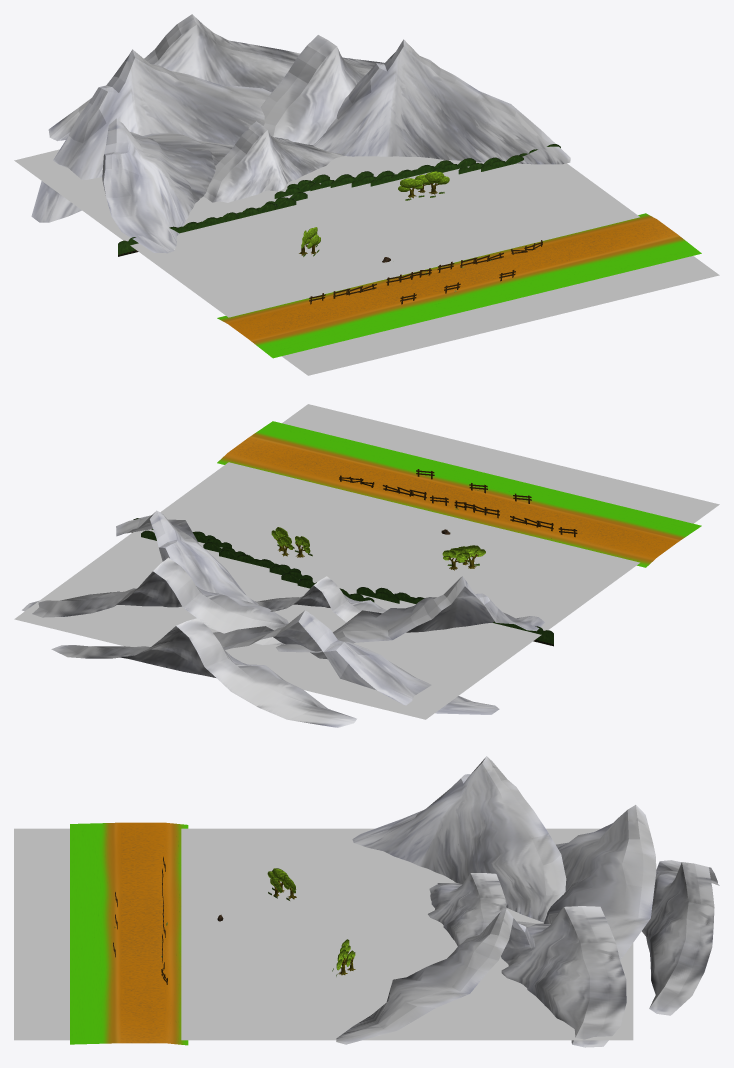
Rendered from 331_bg_roadA.fbx.
The picture shows the model from 3 angles, top to bottom: view 1: azimuth 30°, elevation 25°; view 2: azimuth 150°, elevation 25°; view 3: azimuth 270°, elevation 25°; orthographic projection. The views are drawn at different scales.
Parts seen in each view (by area): view 1: ground, pPlane459, polySurface1, polySurface17, polySurface18, polySurface19, polySurface20, polySurface16; view 2: ground, pPlane459, polySurface20, polySurface19, polySurface17, polySurface18, polySurface1, polySurface16; view 3: ground, pPlane459, polySurface18, polySurface19, polySurface17, polySurface20, polySurface1, polySurface16.
Part boxes in pixels (x1,y1,x2,y2): ground: (14,149,719,375); pPlane459: (217,213,701,358); polySurface1: (313,39,570,164); polySurface17: (31,49,271,222); polySurface18: (102,118,233,253); polySurface19: (260,35,384,144); polySurface20: (48,14,300,141); polySurface16: (203,121,343,202); ground: (14,404,719,719); pPlane459: (217,421,701,567); polySurface20: (51,618,356,727); polySurface19: (22,557,288,644); polySurface17: (213,610,499,714); polySurface18: (276,576,544,652); polySurface1: (116,510,258,604); polySurface16: (255,576,386,622); ground: (14,828,633,1040); pPlane459: (70,822,188,1045); polySurface18: (352,756,566,922); polySurface19: (501,906,626,1047); polySurface17: (544,805,656,960); polySurface20: (642,860,719,1015); polySurface1: (336,908,535,1044); polySurface16: (428,873,506,945).
Bounding box in the file's own units: 5571 × 1254 × 7272.
